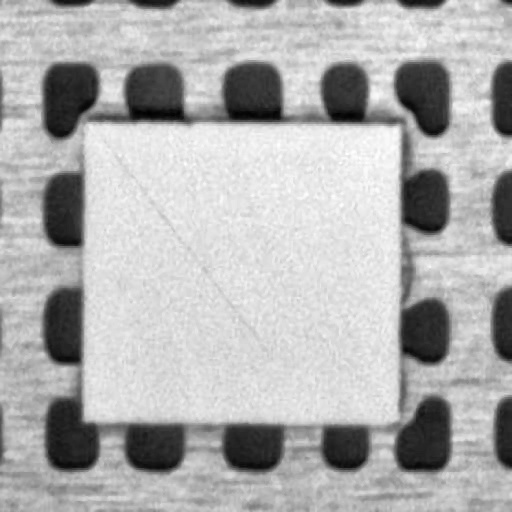DIE_CRACK: (135, 103, 361, 269)
